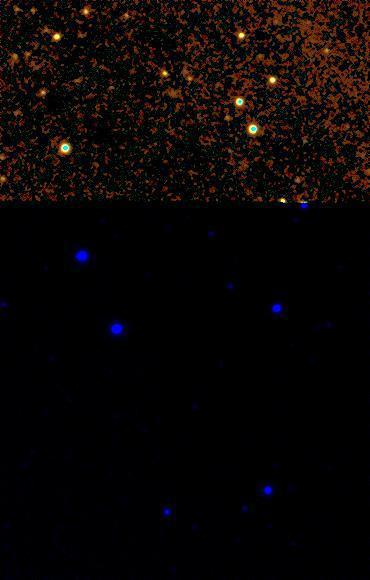star: (269, 186, 299, 216)
